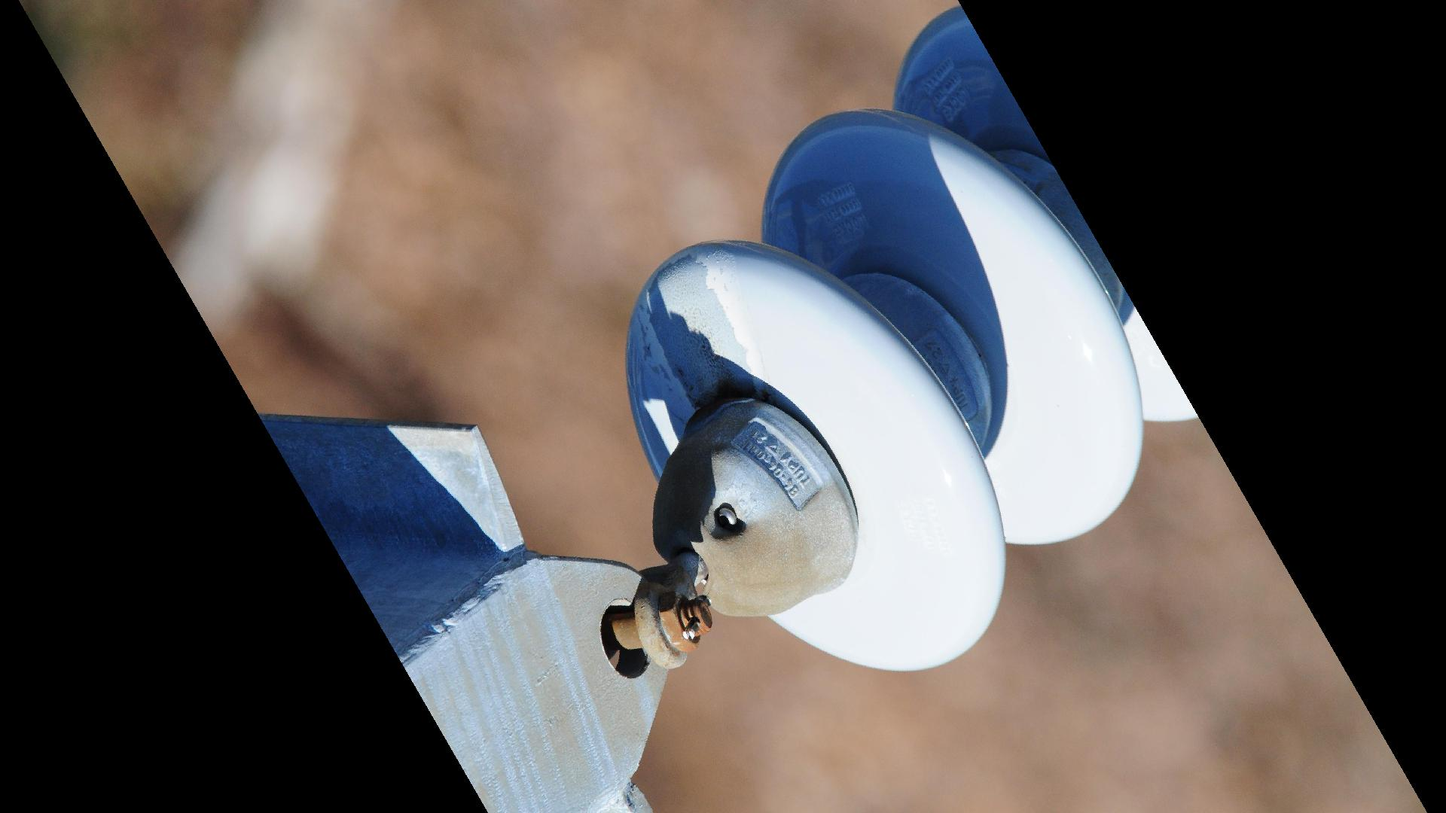insulator: (619, 1, 1207, 683)
insulator_flashover: (644, 252, 761, 419)
